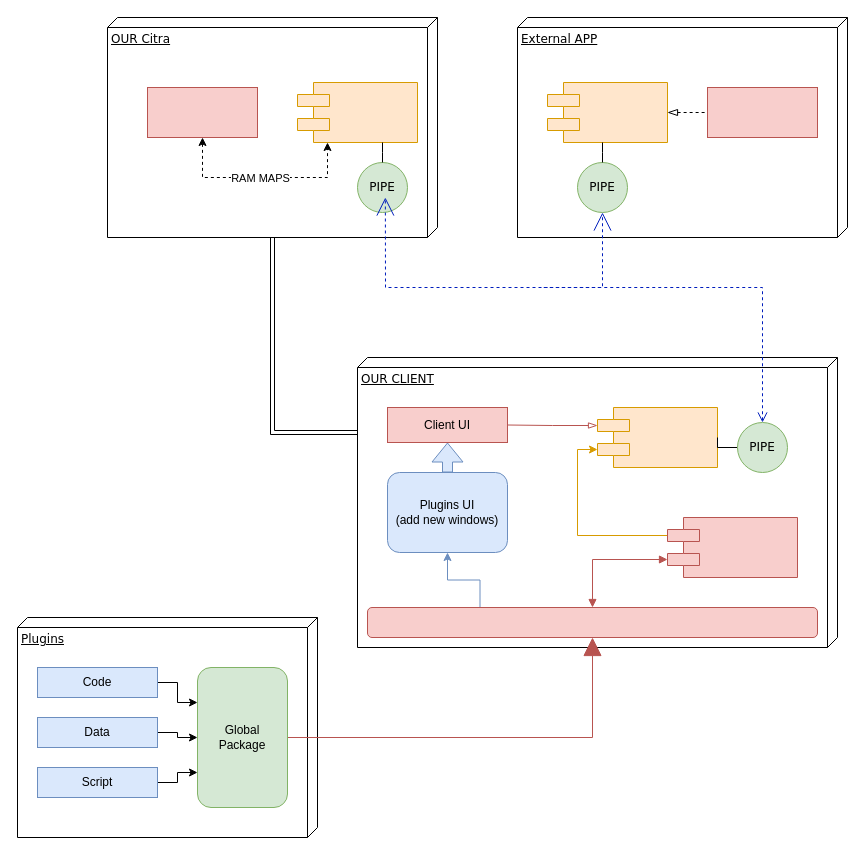
Image size: 865x855. Some labels were removed from this diagram. The shapes that lost their labels are listed below. From the top down, each one's centre as x and y in pixels, then its label:
(x=202, y=112): Emulated Game
(x=357, y=112): Core
(x=607, y=112): Module
(x=762, y=112): APP DATA
(x=657, y=437): Bridge
(x=732, y=547): Plugin Loader
(x=592, y=622): Script interpretor
